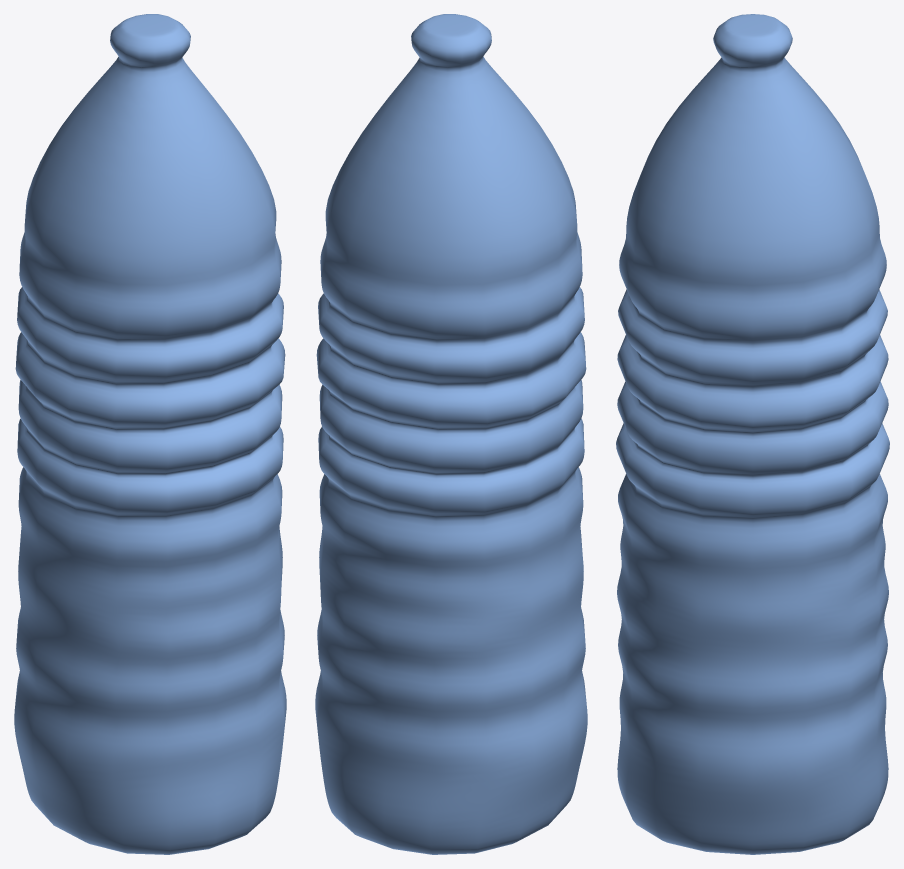
The model's file is bottle2.glb.
The picture shows the model from 3 angles, left to right: view 1: azimuth 30°, elevation 25°; view 2: azimuth 150°, elevation 25°; view 3: azimuth 270°, elevation 25°; orthographic projection.
Visible parts, largest first — view 1: Bottle_Cubo; view 2: Bottle_Cubo; view 3: Bottle_Cubo.
Boxes of the visible parts, bbox=[...] form: Bottle_Cubo: bbox=[14, 14, 286, 854]; Bottle_Cubo: bbox=[315, 14, 587, 854]; Bottle_Cubo: bbox=[616, 14, 889, 854].
Bounding box in the file's own units: 1.21 × 3.85 × 1.21.
